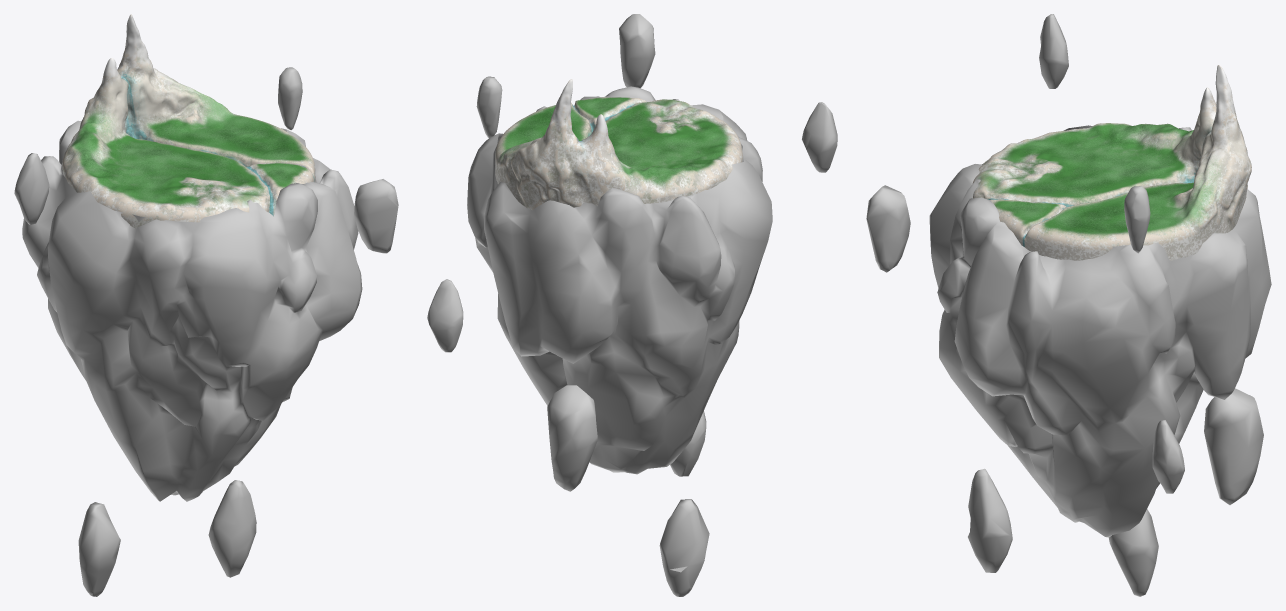
The model's file is worldmap.fbx.
The picture shows the model from 3 angles, left to right: view 1: azimuth 30°, elevation 25°; view 2: azimuth 150°, elevation 25°; view 3: azimuth 270°, elevation 25°; orthographic projection. The views are drawn at different scales.
Visible parts, largest first — view 1: Island, map, FloatingRock5, FloatingRock4, FloatingRock2, FloatingRock1, FloatingRock3; view 2: Island, map, FloatingRock7, FloatingRock4, FloatingRock2, FloatingRock6, FloatingRock1, FloatingRock3, FloatingRock5; view 3: Island, map, FloatingRock7, FloatingRock5, FloatingRock2, FloatingRock4, FloatingRock6, FloatingRock1, FloatingRock3.
Boxes of the visible parts, box(x1,y1,x2,y2) form: Island: box(22, 120, 362, 501); map: box(62, 14, 315, 228); FloatingRock5: box(208, 480, 256, 577); FloatingRock4: box(78, 502, 120, 596); FloatingRock2: box(354, 179, 398, 253); FloatingRock1: box(14, 153, 49, 224); FloatingRock3: box(278, 67, 302, 130); Island: box(467, 86, 772, 474); map: box(495, 79, 742, 210); FloatingRock7: box(547, 385, 597, 491); FloatingRock4: box(659, 499, 709, 596); FloatingRock2: box(619, 14, 655, 88); FloatingRock6: box(427, 279, 463, 352); FloatingRock1: box(802, 102, 837, 172); FloatingRock3: box(476, 76, 502, 138); FloatingRock5: box(670, 411, 706, 476); Island: box(929, 125, 1271, 537); map: box(972, 65, 1251, 260); FloatingRock7: box(1204, 388, 1263, 504); FloatingRock5: box(968, 468, 1012, 572); FloatingRock2: box(866, 185, 910, 272); FloatingRock4: box(1108, 509, 1158, 596); FloatingRock6: box(1152, 420, 1184, 493); FloatingRock1: box(1039, 14, 1068, 88); FloatingRock3: box(1124, 186, 1150, 253).
Bounding box in the file's own units: 6095 × 8701 × 5608.
